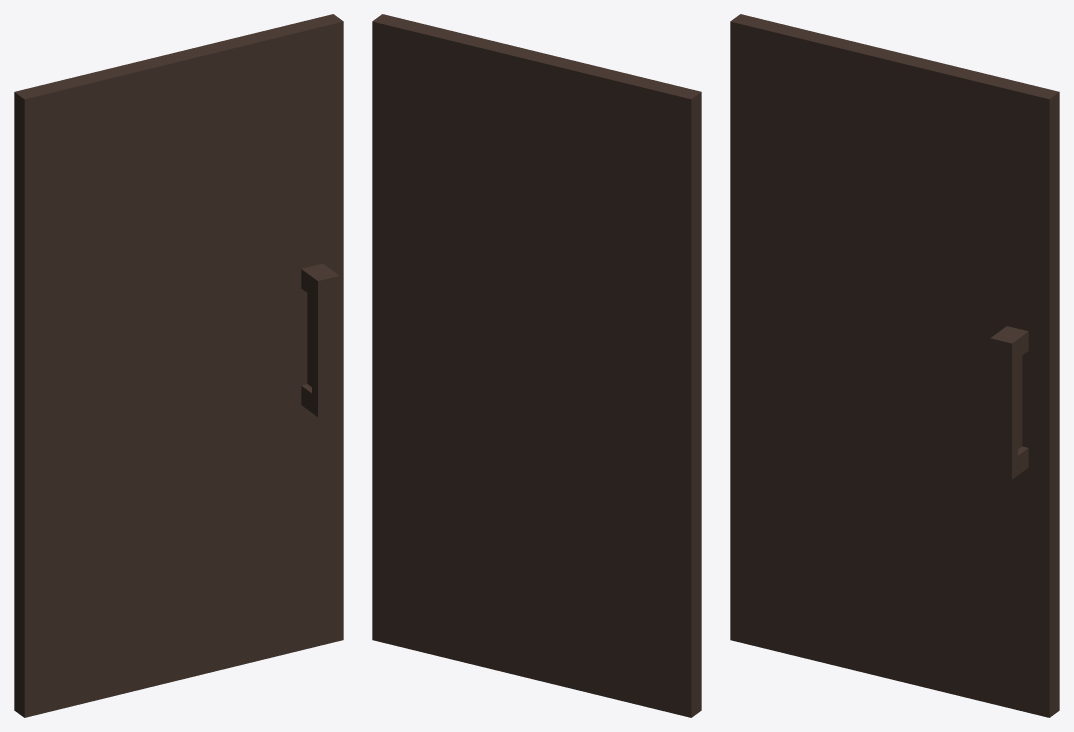
Rendered from Itr_Shelf1_Door_Left_06.FBX.
3 renders of one model, left to right at view 1: azimuth 30°, elevation 25°; view 2: azimuth 150°, elevation 25°; view 3: azimuth 330°, elevation 25°, orthographic.
Parts seen in each view (by area): view 1: Itr_Shelf1_Door_Left_06; view 2: Itr_Shelf1_Door_Left_06; view 3: Itr_Shelf1_Door_Left_06.
Part boxes in pixels (<box>): Itr_Shelf1_Door_Left_06: <box>14,14,343,717</box>; Itr_Shelf1_Door_Left_06: <box>372,14,701,717</box>; Itr_Shelf1_Door_Left_06: <box>730,14,1059,717</box>.
Size of the model in its own units: 22.1 by 40.92 by 3.23.
